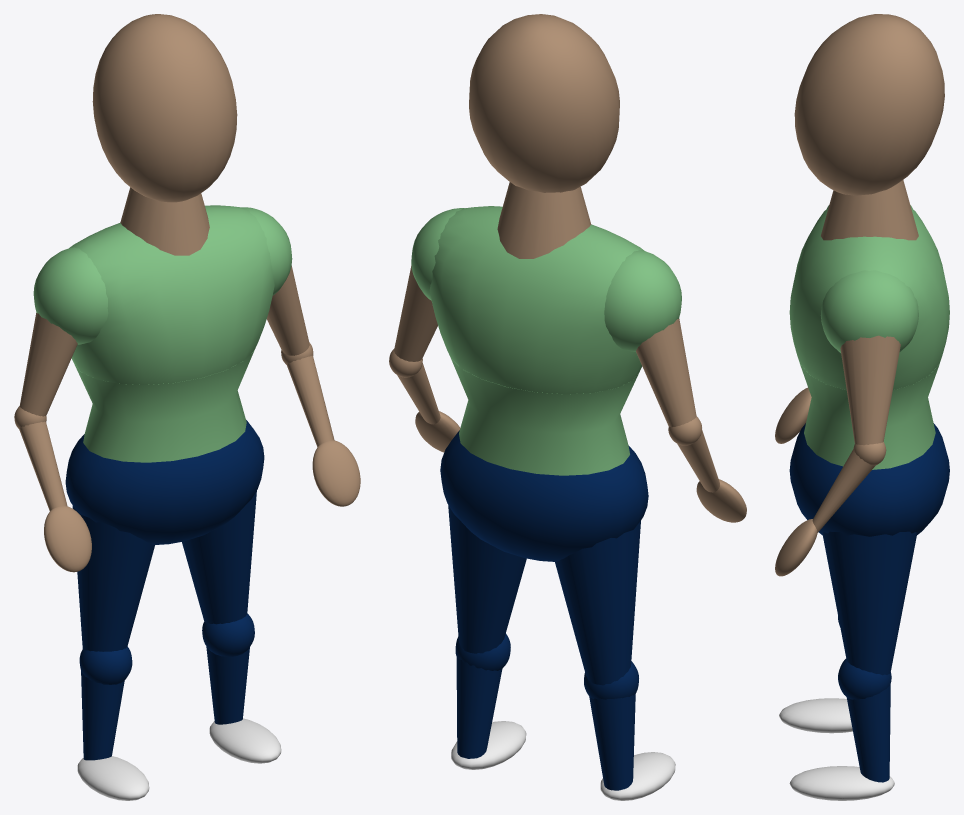
File: player.fbx
3 renders of one model, left to right at view 1: azimuth 30°, elevation 25°; view 2: azimuth 150°, elevation 25°; view 3: azimuth 270°, elevation 25°, orthographic. The views are drawn at different scales.
Parts seen in each view (by area): view 1: polySurface24; view 2: polySurface24; view 3: polySurface24.
Boxes of the visible parts, box(x1,y1,x2,y2) form: polySurface24: box(14, 14, 360, 800); polySurface24: box(389, 14, 746, 800); polySurface24: box(775, 14, 949, 800).
Bounding box in the file's own units: 3.4 × 7.66 × 1.63.
